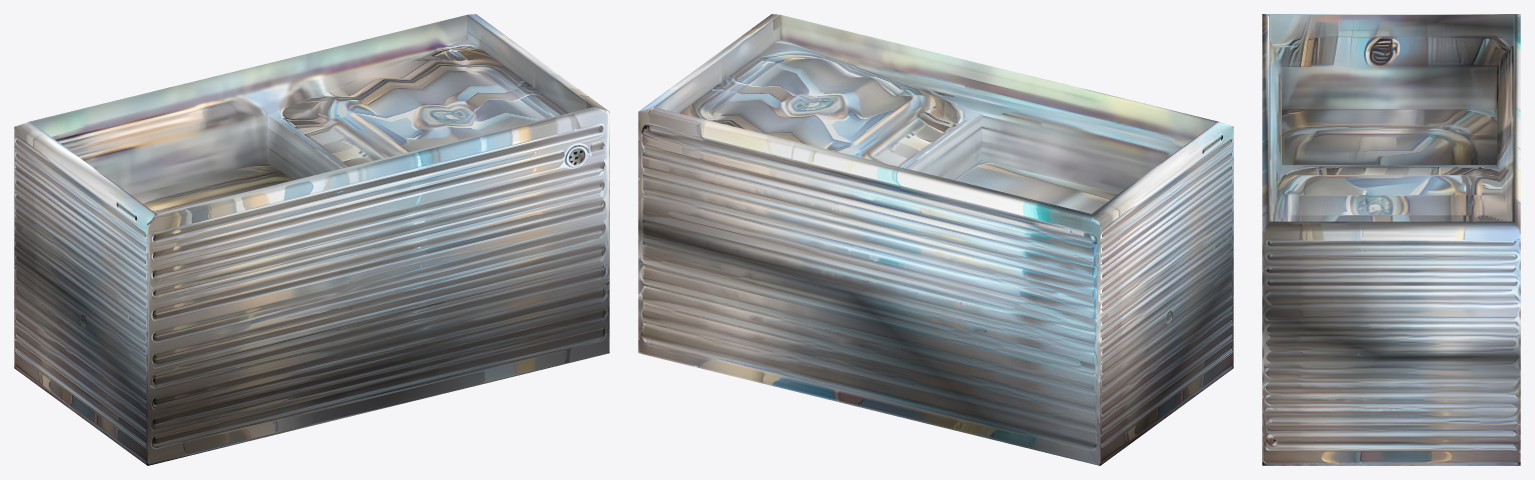
Rendered from sink.glb.
3 renders of one model, left to right at view 1: azimuth 30°, elevation 25°; view 2: azimuth 150°, elevation 25°; view 3: azimuth 270°, elevation 25°, orthographic. The views are drawn at different scales.
Bounding box in the file's own units: 20 × 10.2 × 10.
Materials: 1 (1 with a texture image).
